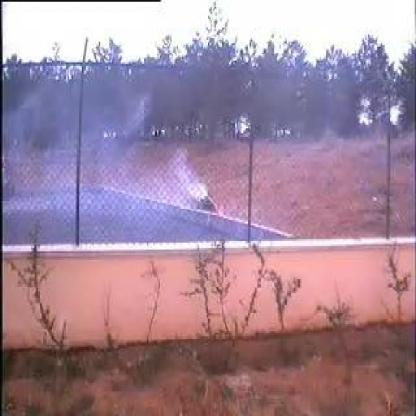-: (77, 72, 212, 230)
